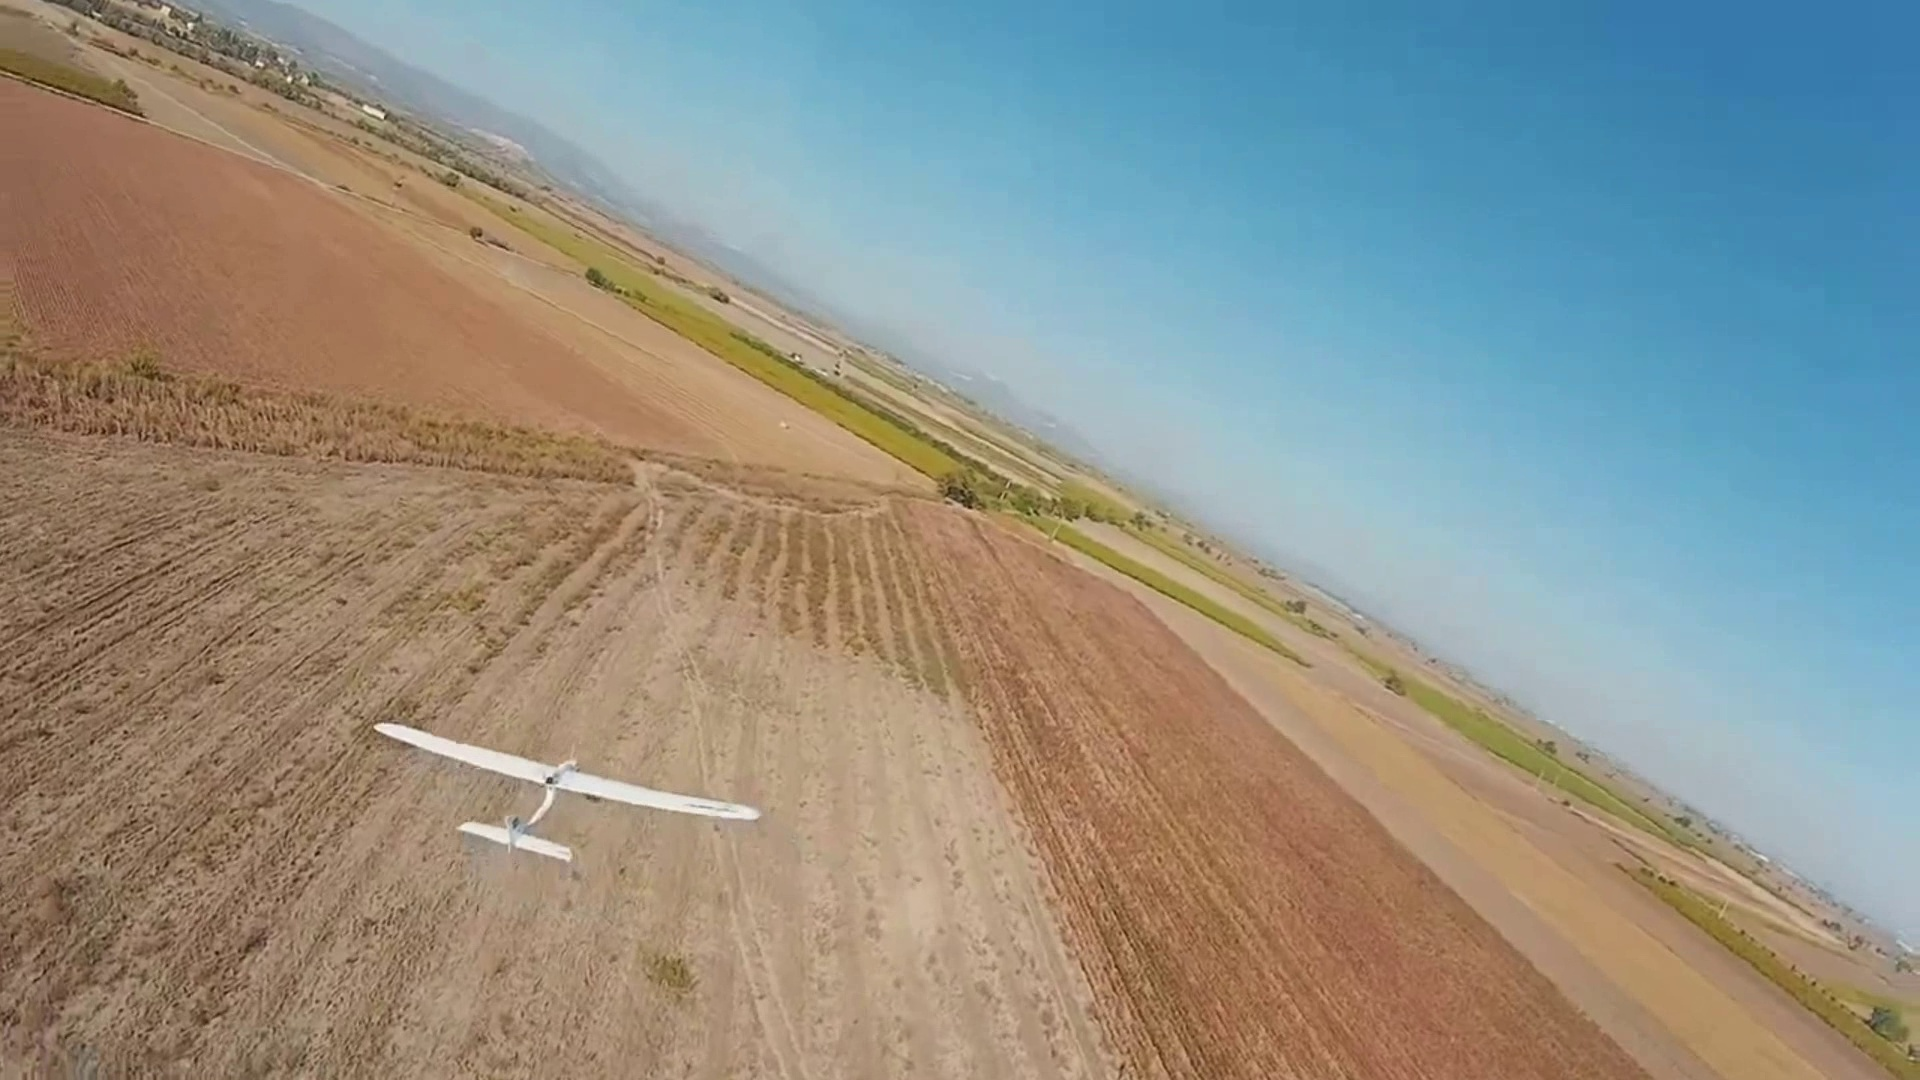airplane: (375, 711, 764, 866)
